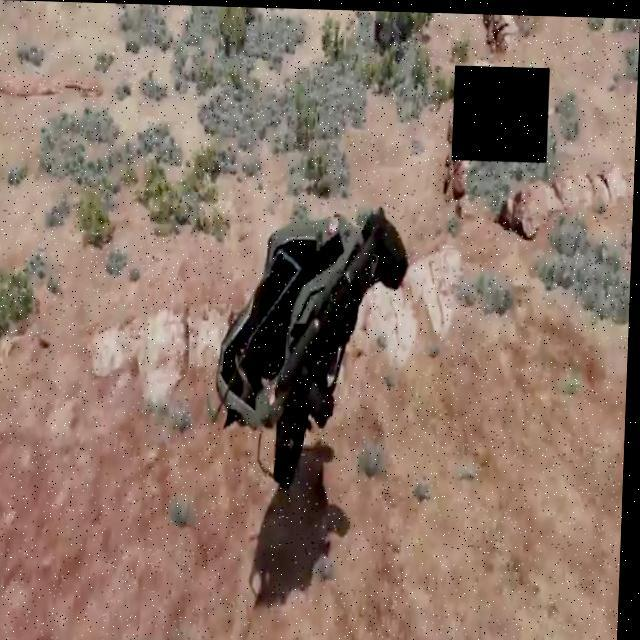single accident: (135, 202, 453, 444)
